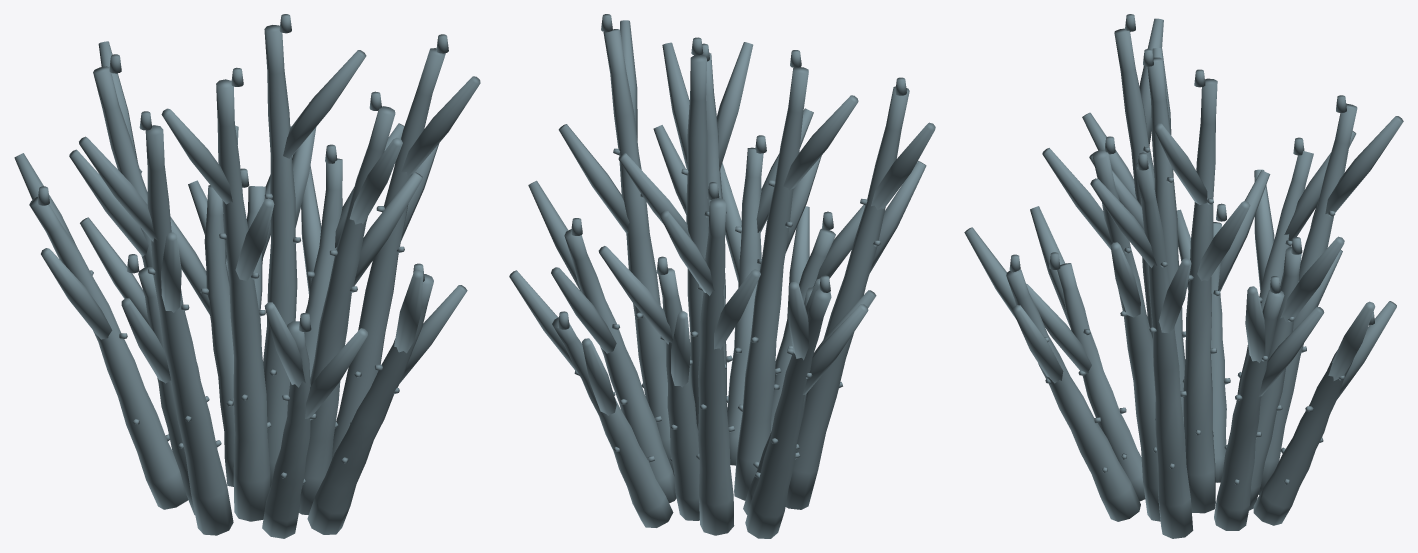
The model's file is acropora-mobile.glb.
3 views of the same model, side by side, from view 1: azimuth 30°, elevation 25°; view 2: azimuth 150°, elevation 25°; view 3: azimuth 270°, elevation 25° (orthographic). The views are drawn at different scales.
Visible parts, largest first — view 1: branch, lateral-branch, axial-corallite, radial-corallite; view 2: branch, lateral-branch, axial-corallite, radial-corallite; view 3: branch, lateral-branch, axial-corallite, radial-corallite.
Part boxes in pixels (x1,y1,x2,y2): branch: (29,25,445,538); lateral-branch: (14,41,480,418); axial-corallite: (37,14,448,331); radial-corallite: (90,169,404,484); branch: (552,29,909,538); lateral-branch: (509,20,935,415); axial-corallite: (557,14,906,329); radial-corallite: (574,148,880,478); branch: (1006,28,1367,538); lateral-branch: (964,18,1403,399); axial-corallite: (1009,14,1374,325); radial-corallite: (1045,146,1344,484).
Bounding box in the file's own units: 0.4865 × 0.5911 × 0.5257.
